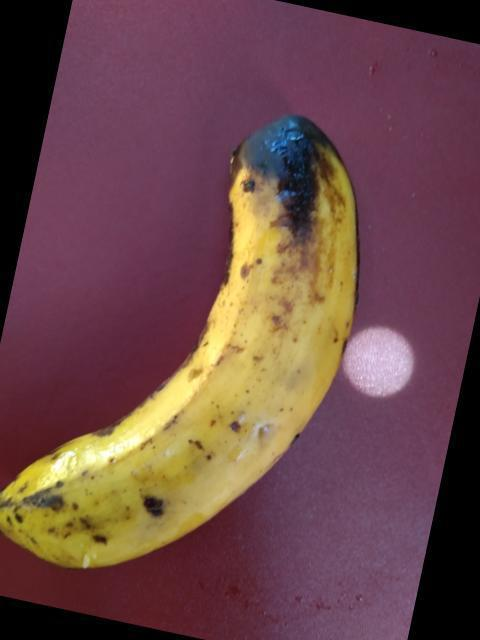rotten: (0, 100, 389, 600)
